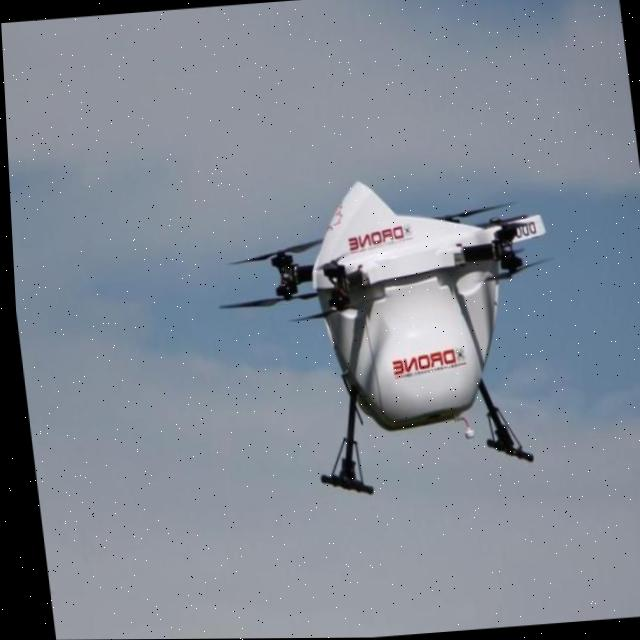drones: (152, 140, 598, 548)
